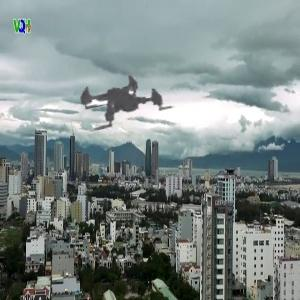drone: (39, 14, 201, 176)
